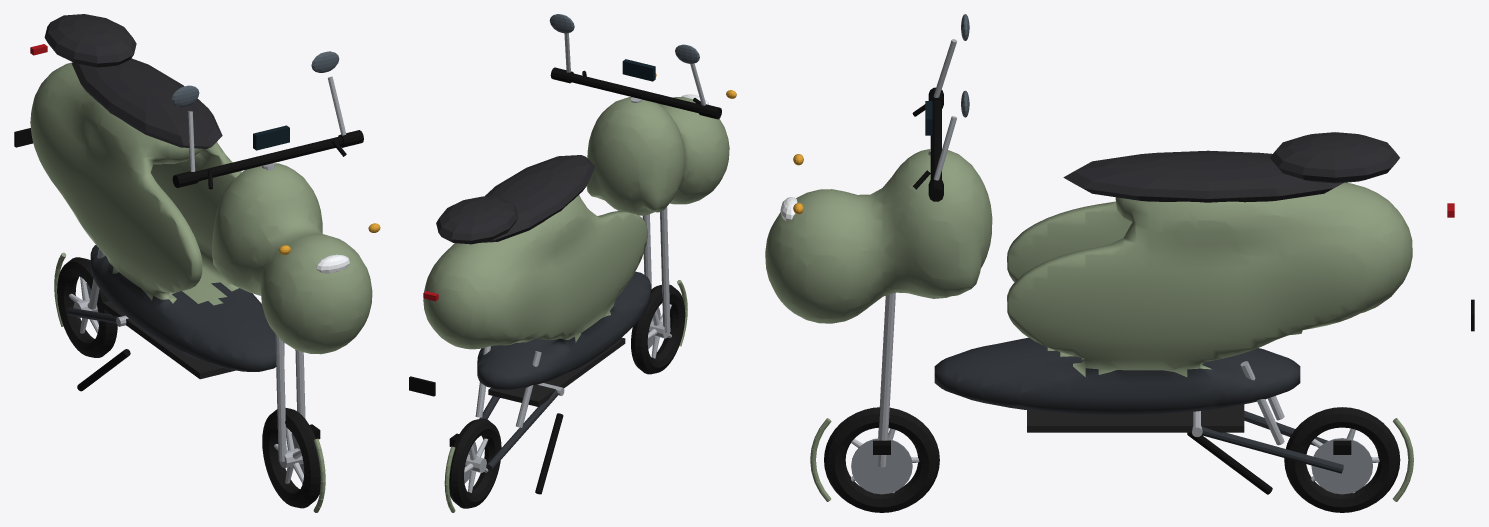
The model's file is Scooter.glb.
3 views of the same model, side by side, from view 1: azimuth 30°, elevation 25°; view 2: azimuth 150°, elevation 25°; view 3: azimuth 270°, elevation 25° (orthographic). The views are drawn at different scales.
Visible parts, largest first — view 1: ScooterBody, Seat, PassengerSeat, Tyre, Tyre.001, Handlebar, Footboard, ForkLeg.001, Display, ForkLeg, Kickstand, Headlight (+4 smaller); view 2: ScooterBody, Seat, PassengerSeat, Tyre.001, Tyre, Footboard, Handlebar, ForkLeg.001, SwingArm.001, Kickstand, Display, Shock.001 (+4 smaller); view 3: ScooterBody, Seat, Tyre, Tyre.001, PassengerSeat, Footboard, BrakeDisc, BrakeDisc.001, ForkLeg, SwingArm, Kickstand.
Part boxes in pixels (bbox=[...]): ScooterBody: bbox=[30, 62, 372, 371]; Seat: bbox=[71, 58, 222, 148]; PassengerSeat: bbox=[44, 14, 136, 67]; Tyre: bbox=[262, 408, 320, 508]; Tyre.001: bbox=[57, 257, 117, 357]; Handlebar: bbox=[196, 136, 343, 180]; Footboard: bbox=[103, 301, 235, 379]; ForkLeg.001: bbox=[275, 334, 286, 461]; Display: bbox=[253, 125, 289, 150]; ForkLeg: bbox=[295, 350, 305, 449]; Kickstand: bbox=[77, 349, 130, 391]; Headlight: bbox=[316, 254, 349, 273]; ScooterBody: bbox=[423, 97, 729, 389]; Seat: bbox=[480, 155, 595, 242]; PassengerSeat: bbox=[436, 196, 518, 244]; Tyre.001: bbox=[449, 418, 501, 508]; Tyre: bbox=[631, 284, 685, 374]; Footboard: bbox=[488, 337, 625, 406]; Handlebar: bbox=[569, 73, 700, 113]; ForkLeg.001: bbox=[660, 207, 670, 332]; SwingArm.001: bbox=[486, 389, 558, 470]; Kickstand: bbox=[535, 413, 563, 494]; Display: bbox=[622, 59, 655, 81]; Shock.001: bbox=[516, 351, 541, 427]; ScooterBody: bbox=[765, 149, 1412, 414]; Seat: bbox=[1063, 150, 1342, 202]; Tyre: bbox=[824, 407, 939, 512]; Tyre.001: bbox=[1284, 407, 1400, 512]; PassengerSeat: bbox=[1270, 132, 1399, 183]; Footboard: bbox=[1027, 404, 1244, 432]; BrakeDisc: bbox=[851, 438, 912, 494]; BrakeDisc.001: bbox=[1311, 438, 1372, 494]; ForkLeg: bbox=[878, 292, 895, 467]; SwingArm: bbox=[1201, 426, 1343, 473]; Kickstand: bbox=[1187, 432, 1272, 494].
Bounding box in the file's own units: 0.66 × 1.4 × 1.96.
